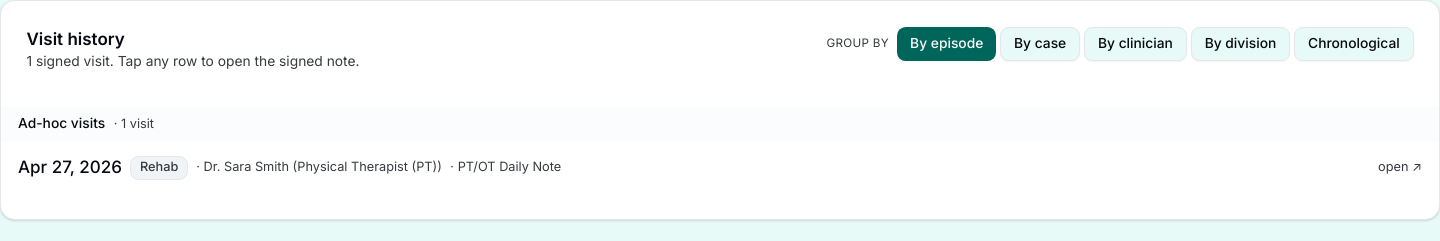
Test case: VisitHistoryList — By case view › falls back to "Unrouted visit · No case" when caseManagementId is null
Click the button "By case": click(1040, 44) [1000,26,1080,60]
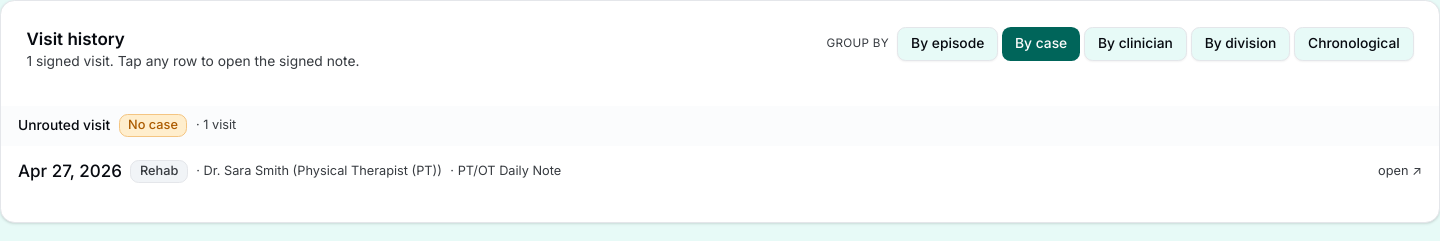
Result: the text "Unrouted visit" is shown at [18,116,110,136]
Result: the text "No case" is shown at [128,117,178,134]
